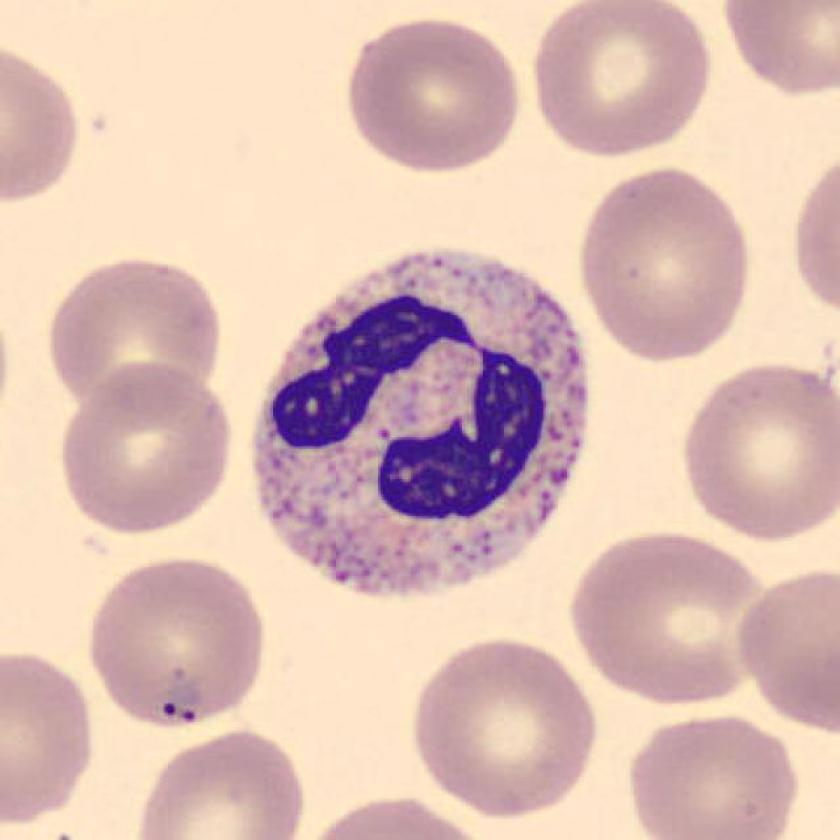neutrophil: (253, 244, 592, 596)
